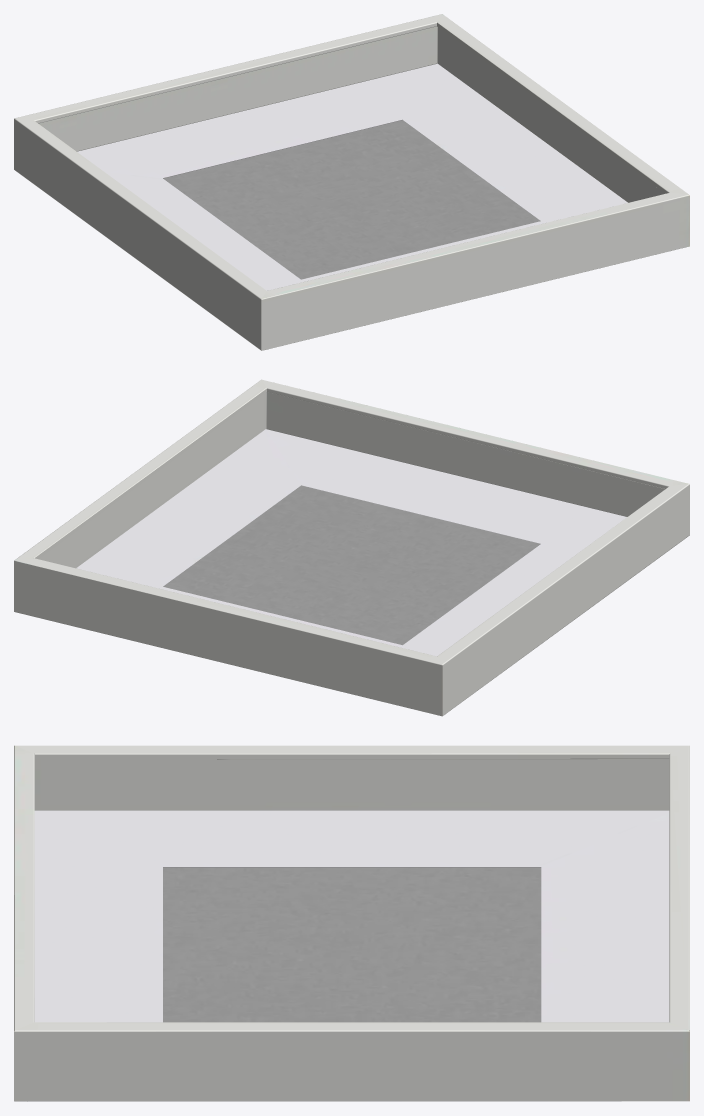
File: frame-large-white.glb
3 renders of one model, top to bottom at view 1: azimuth 30°, elevation 25°; view 2: azimuth 150°, elevation 25°; view 3: azimuth 270°, elevation 25°, orthographic. The views are drawn at different scales.
Parts seen in each view (by area): view 1: 1, 2; view 2: 1, 2; view 3: 1, 2.
Part boxes in pixels (x1,y1,x2,y2): 1: (14, 14, 689, 350); 2: (163, 120, 540, 279); 1: (14, 379, 689, 716); 2: (163, 485, 540, 645); 1: (14, 745, 689, 1101); 2: (163, 867, 541, 1022).
Size of the model in its own units: 0.518 by 0.061 by 0.518.
2 materials, 2 textured.
